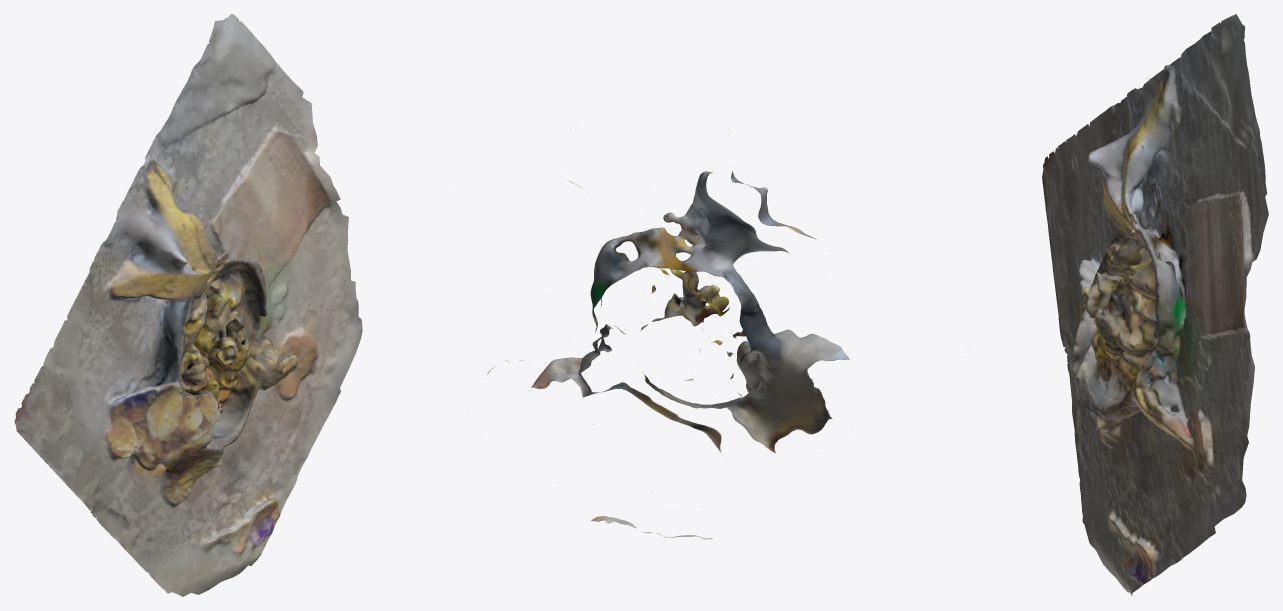
The model's file is bodegon.glb.
3 views of the same model, side by side, from view 1: azimuth 30°, elevation 25°; view 2: azimuth 150°, elevation 25°; view 3: azimuth 270°, elevation 25° (orthographic). The views are drawn at different scales.
Bounding box in the file's own units: 3.23 × 3.64 × 1.26.
